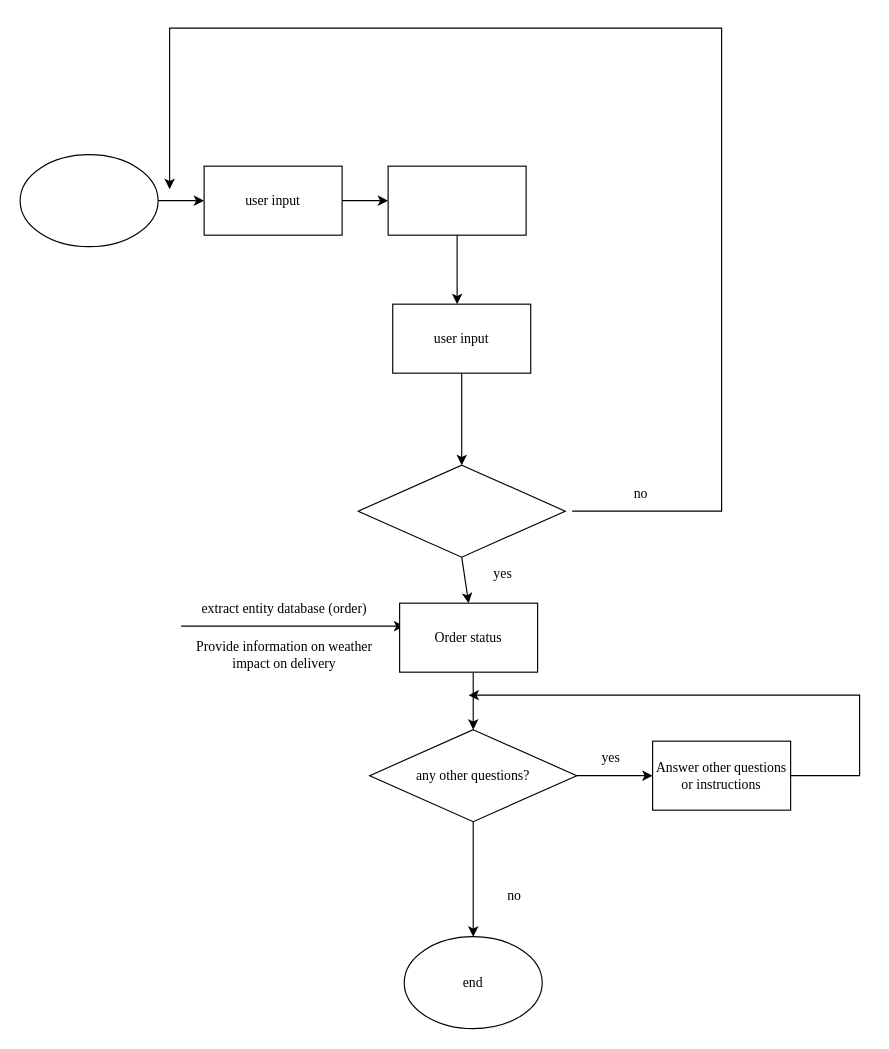
This 889x1049 diagram has some shape labels left out. The shapes that lost their labels are listed below. From the top down, each one's centre as x and y in pixels, then its label:
At point 88,200: "start".
At point 456,200: "refine (NLP)".
At point 461,510: "Have an order status inquiry?".
